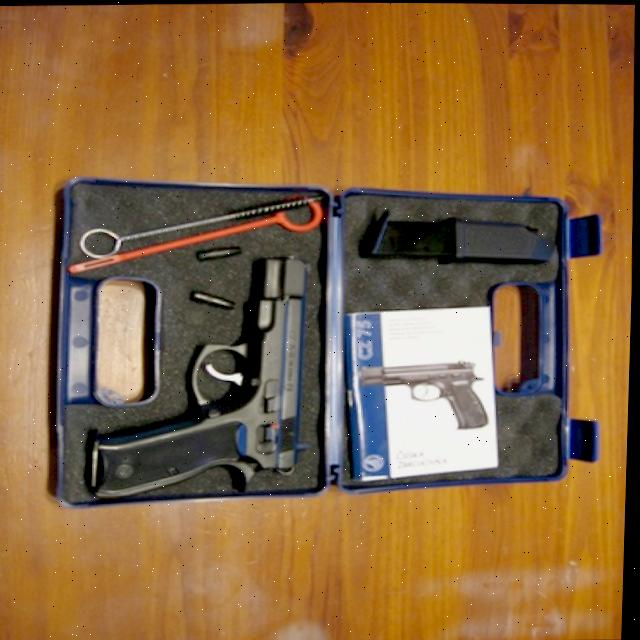pistol: (79, 249, 316, 501), (357, 358, 493, 431)
